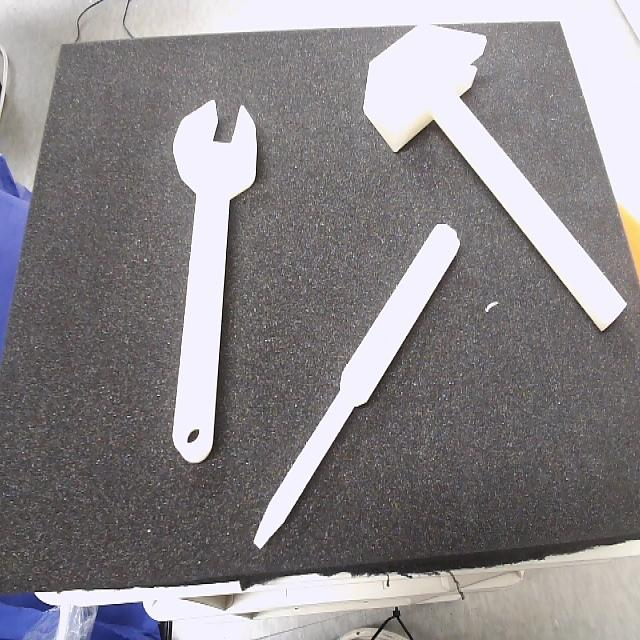Driver: (253, 225, 460, 549)
Hammer: (363, 25, 628, 333)
Spanner: (171, 100, 259, 467)
